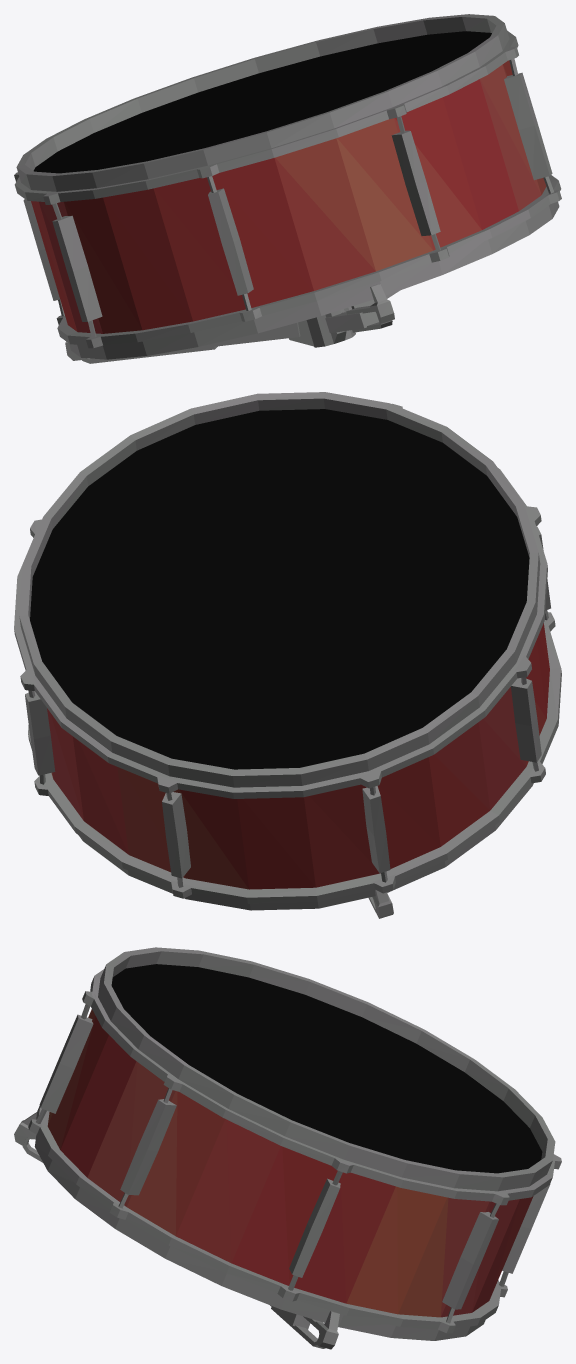
File: drum1-head.fbx
3 views of the same model, one above another, from view 1: azimuth 30°, elevation 25°; view 2: azimuth 150°, elevation 25°; view 3: azimuth 270°, elevation 25° (orthographic). The views are drawn at different scales.
Visible parts, largest first — view 1: polySurface792; view 2: polySurface792; view 3: polySurface792.
Boxes of the visible parts, left/top/right/bottom form: polySurface792: left=14, top=14, right=561, bottom=363; polySurface792: left=14, top=392, right=561, bottom=918; polySurface792: left=14, top=947, right=561, bottom=1349.
Bounding box in the file's own units: 52.64 × 36.95 × 54.59.
